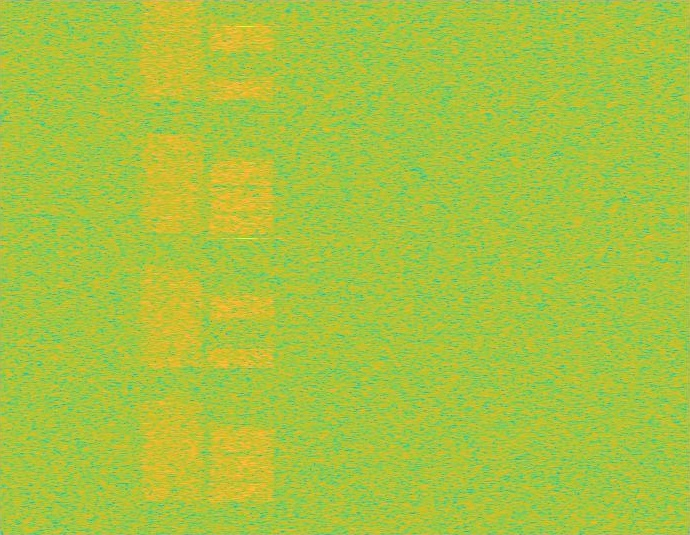5G: (138, 0, 207, 534)
LTE: (207, 0, 276, 534)
Radar: (239, 0, 253, 534)
